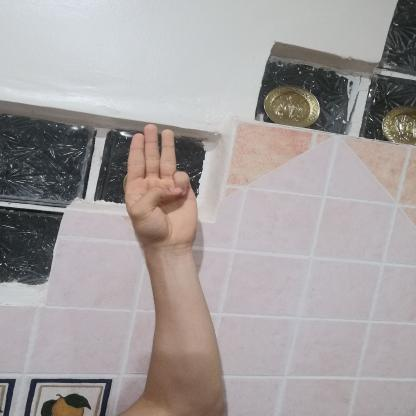THA: (110, 112, 212, 258)
